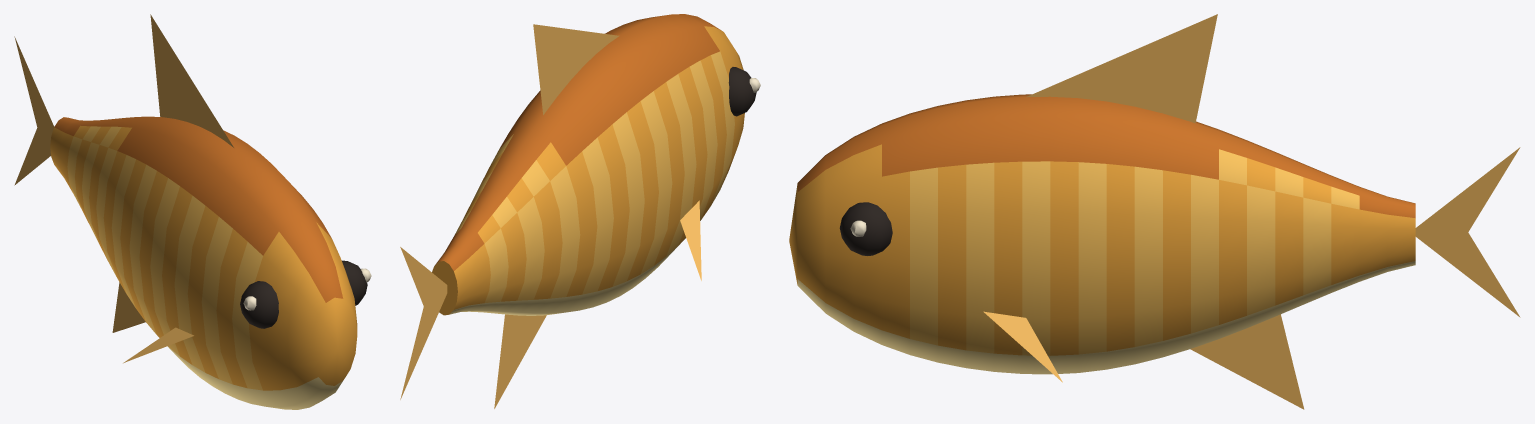
File: golden_carp.fbx
3 renders of one model, left to right at view 1: azimuth 30°, elevation 25°; view 2: azimuth 150°, elevation 25°; view 3: azimuth 270°, elevation 25°, orthographic. The views are drawn at different scales.
Parts seen in each view (by area): view 1: Fish_golden_carp_EXP; view 2: Fish_golden_carp_EXP; view 3: Fish_golden_carp_EXP.
Boxes of the visible parts, x1=… form: Fish_golden_carp_EXP: x1=14, y1=14, x2=371, y2=409; Fish_golden_carp_EXP: x1=400, y1=14, x2=760, y2=408; Fish_golden_carp_EXP: x1=789, y1=14, x2=1520, y2=409.
Bounding box in the file's own units: 0.2253 × 0.3888 × 0.651.
